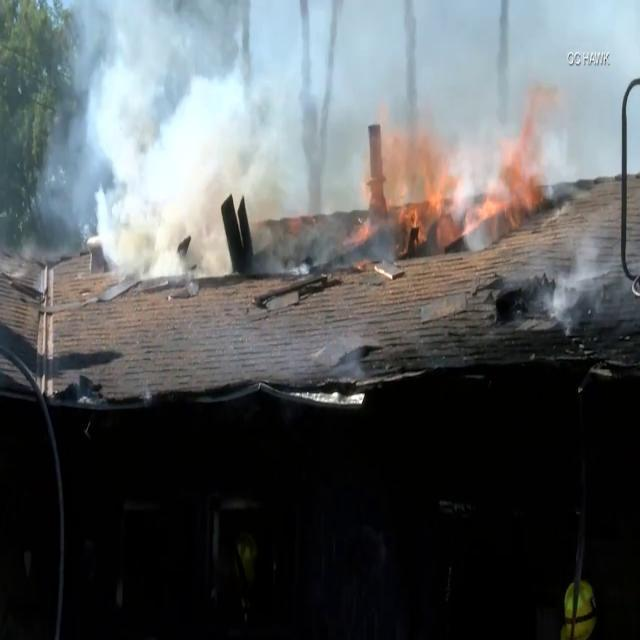Fire: (382, 103, 558, 256)
Smoke: (61, 2, 325, 274)
